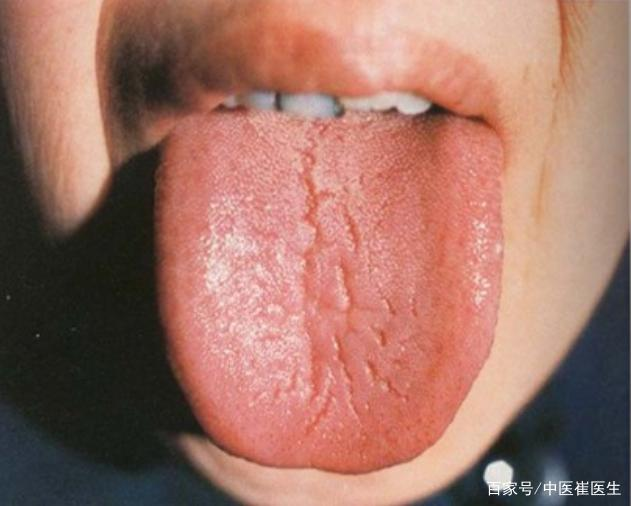hongshe: (154, 104, 505, 475)
liewenshe: (293, 123, 410, 426)
